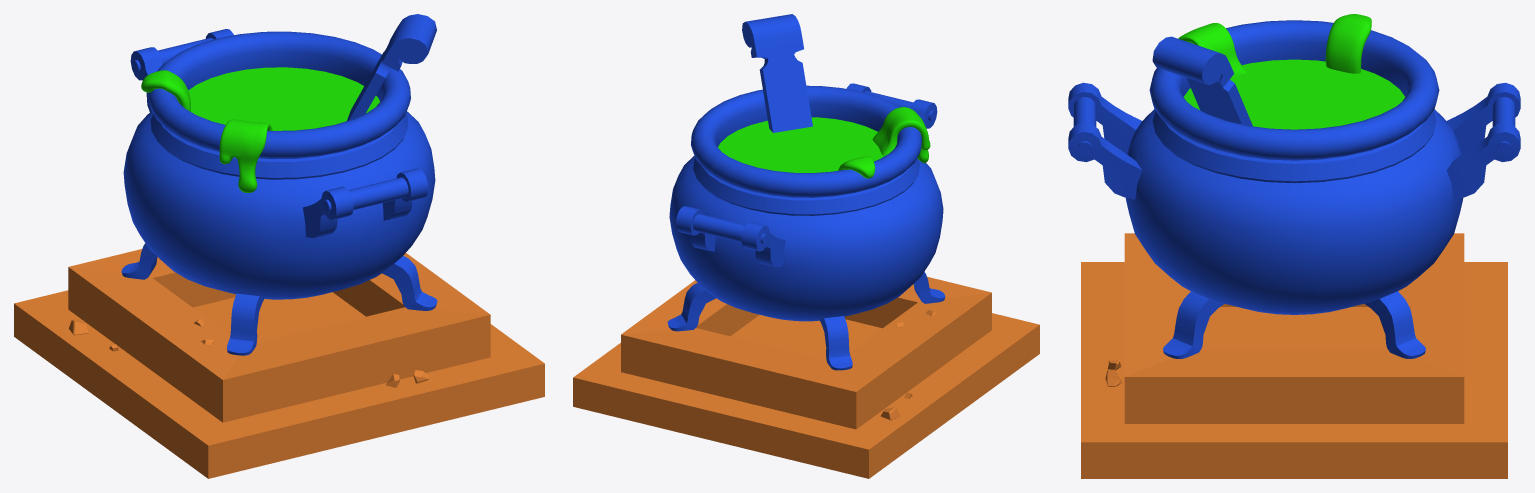
The model's file is CauldronV6.fbx.
The picture shows the model from 3 angles, left to right: view 1: azimuth 30°, elevation 25°; view 2: azimuth 150°, elevation 25°; view 3: azimuth 270°, elevation 25°; orthographic projection. The views are drawn at different scales.
Visible parts, largest first — view 1: Base_low1; view 2: Base_low1; view 3: Base_low1.
Boxes of the visible parts, x1,y1,x2,y2 form: Base_low1: (14,14,544,478); Base_low1: (573,14,1039,478); Base_low1: (1068,14,1520,478).
Size of the model in its own units: 61.02 by 61.35 by 64.64.
